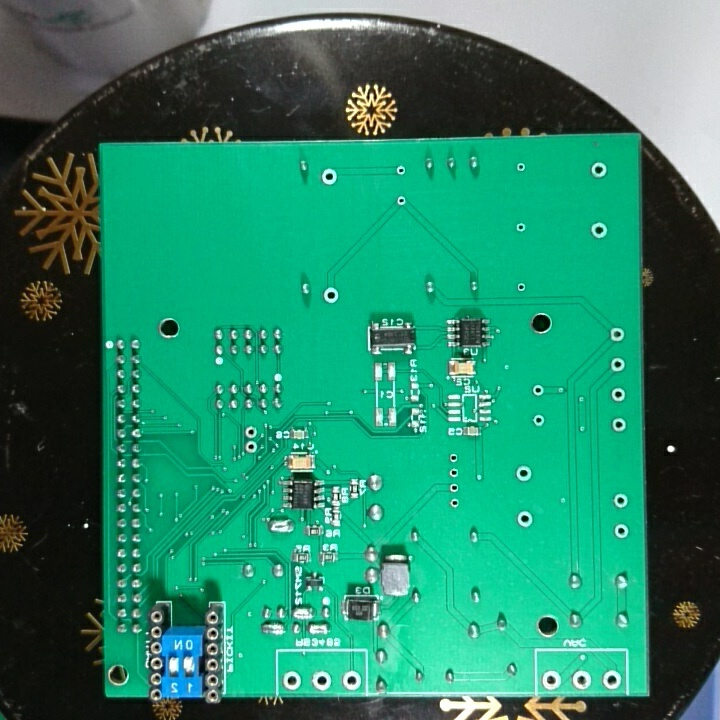F: (568, 667, 594, 694), (538, 666, 563, 692), (309, 669, 334, 694), (600, 667, 623, 692), (280, 669, 304, 692), (339, 668, 362, 692), (605, 323, 628, 346), (588, 159, 610, 182), (588, 219, 610, 241), (319, 166, 340, 188), (515, 508, 536, 530), (608, 384, 628, 406), (611, 491, 631, 512), (514, 463, 534, 484), (608, 355, 627, 377), (612, 520, 631, 542), (609, 415, 629, 435), (321, 286, 340, 305), (530, 380, 547, 400), (242, 422, 260, 440), (242, 439, 261, 456), (531, 411, 547, 431), (445, 495, 462, 512), (513, 219, 529, 236), (445, 465, 461, 481), (393, 163, 408, 179), (394, 192, 408, 209), (446, 449, 460, 466), (514, 158, 527, 176), (446, 481, 461, 496), (514, 279, 528, 295)
P: (265, 515, 297, 536), (259, 620, 288, 638), (289, 604, 317, 621), (305, 620, 333, 637)
